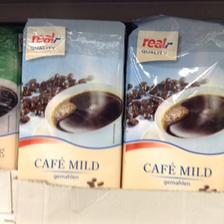coffee: (17, 17, 123, 188), (122, 15, 224, 192)
